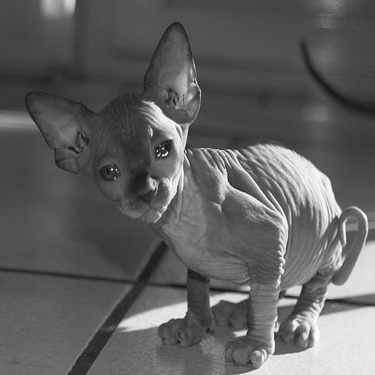cat: (24, 15, 368, 369)
